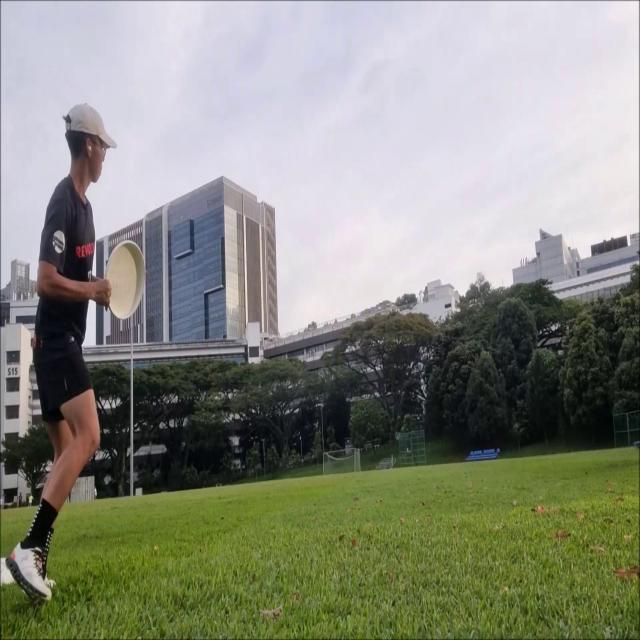disc: (103, 238, 147, 321)
